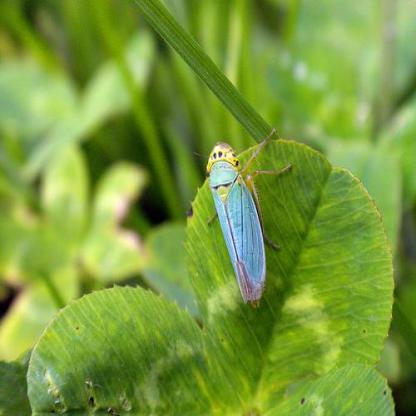Green-Leafhopper: (198, 131, 295, 308)
